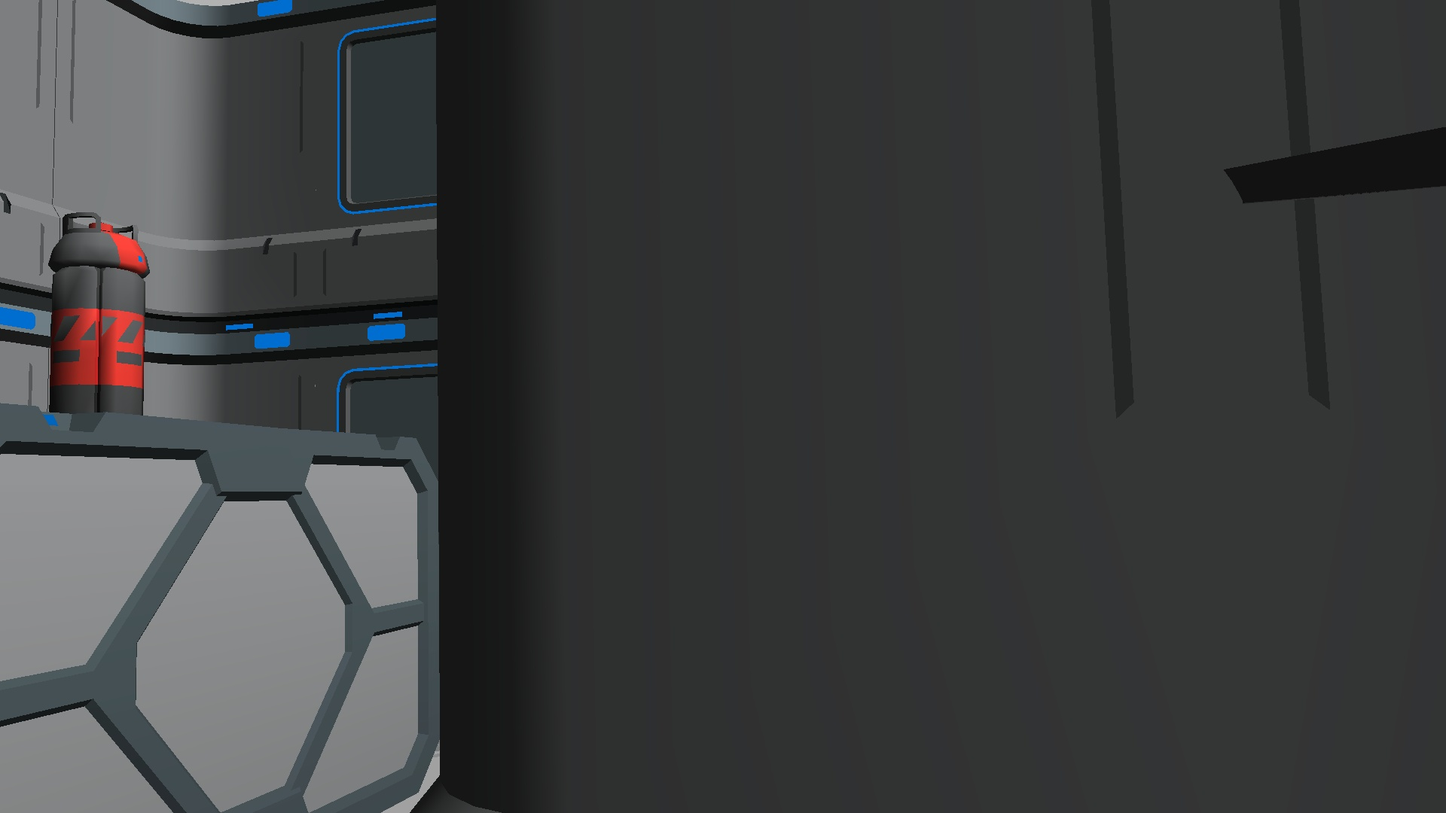red barrel: (49, 212, 149, 415)
